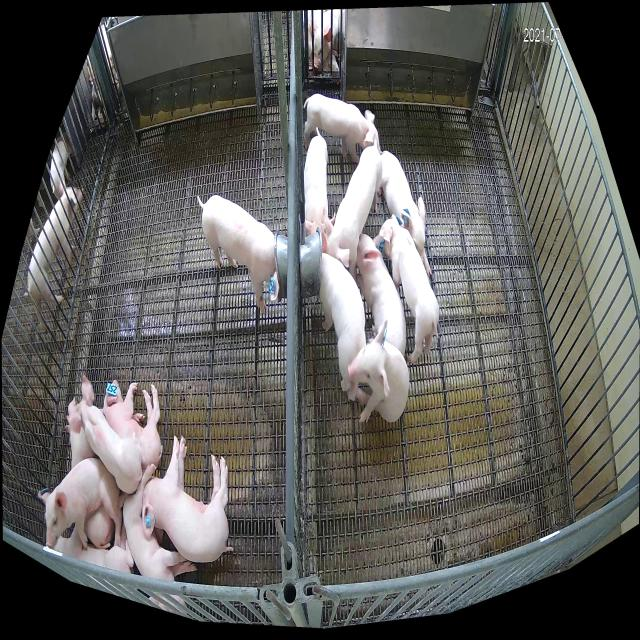pig: (142, 434, 233, 564), (122, 464, 198, 616), (201, 195, 279, 316), (378, 214, 440, 365), (68, 375, 145, 495), (322, 134, 383, 280), (37, 459, 122, 549), (319, 252, 366, 402), (378, 151, 432, 277), (348, 318, 409, 424), (356, 234, 407, 357), (68, 426, 113, 546), (305, 94, 382, 164), (104, 380, 162, 468), (53, 522, 136, 574), (304, 127, 335, 239)
